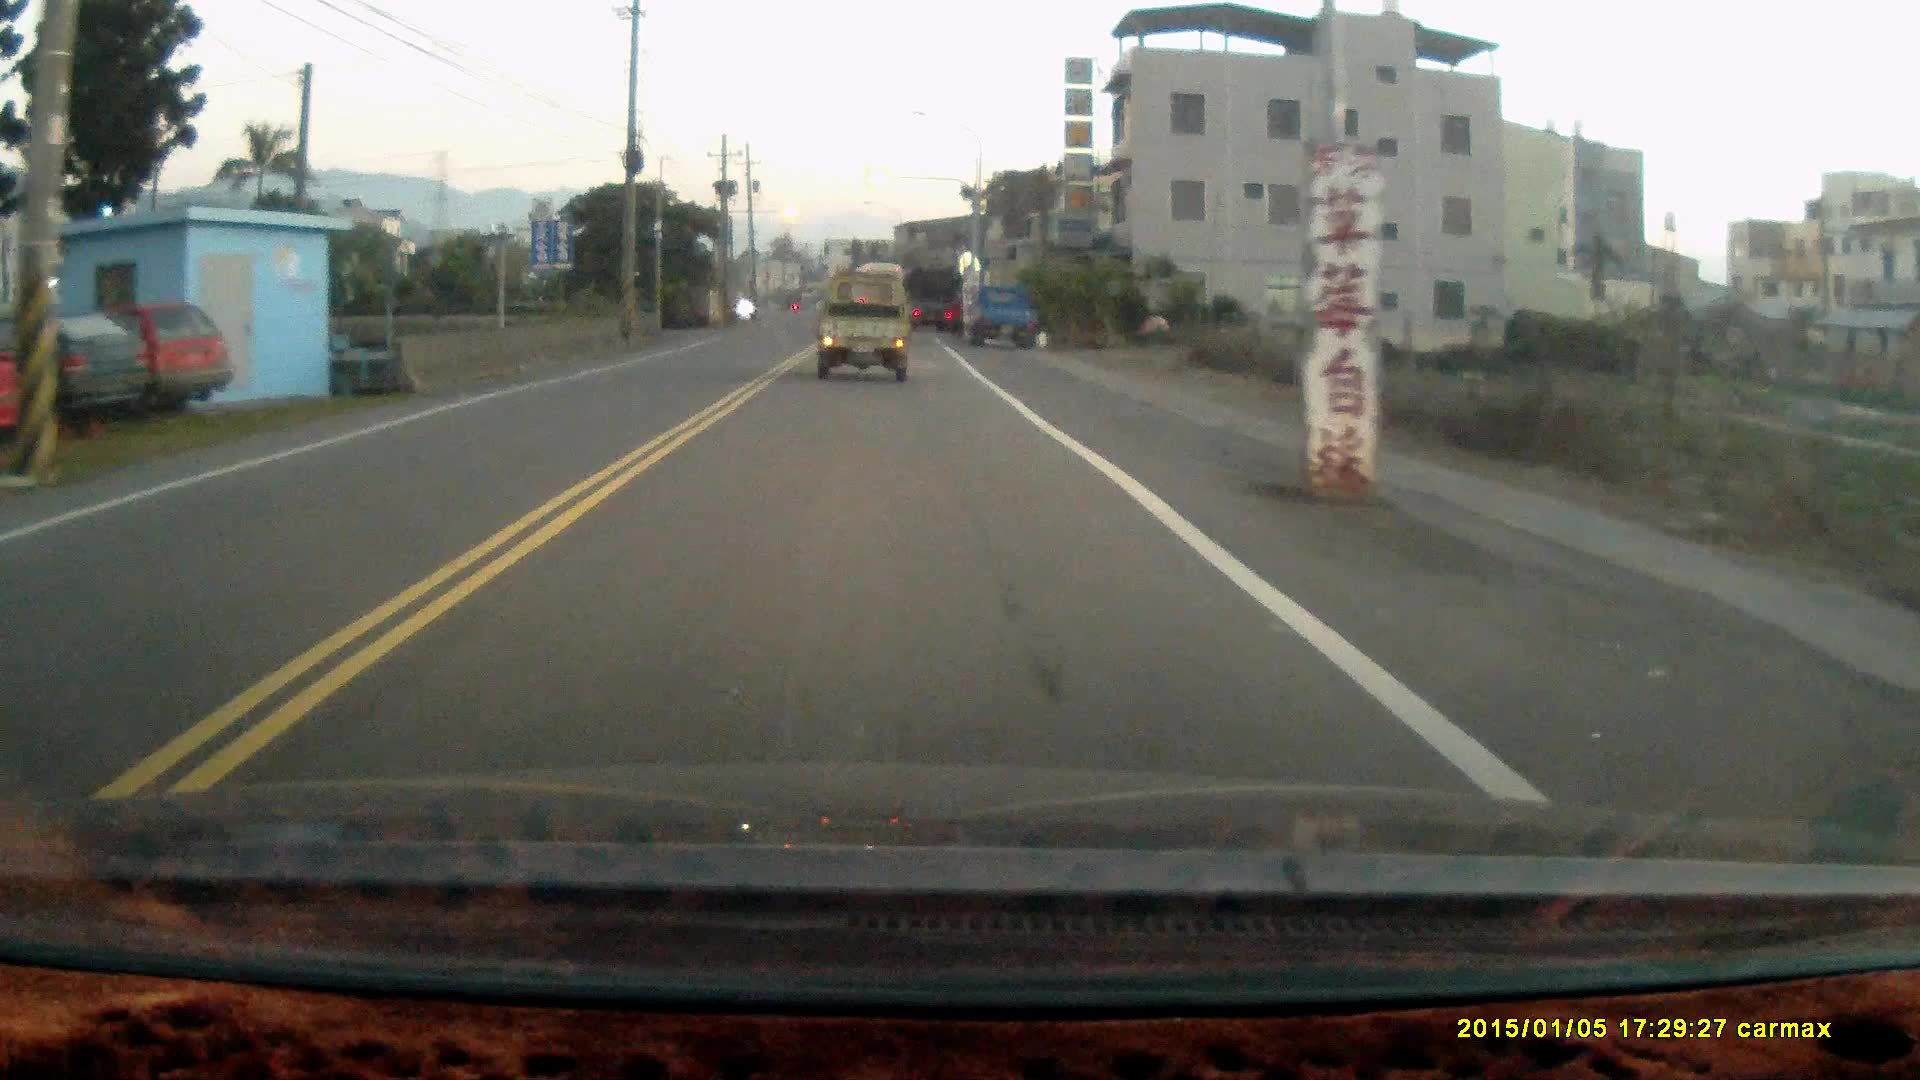vehicle: (20, 301, 228, 414), (3, 303, 162, 435), (815, 276, 916, 378), (964, 290, 1044, 353), (901, 268, 964, 334)
